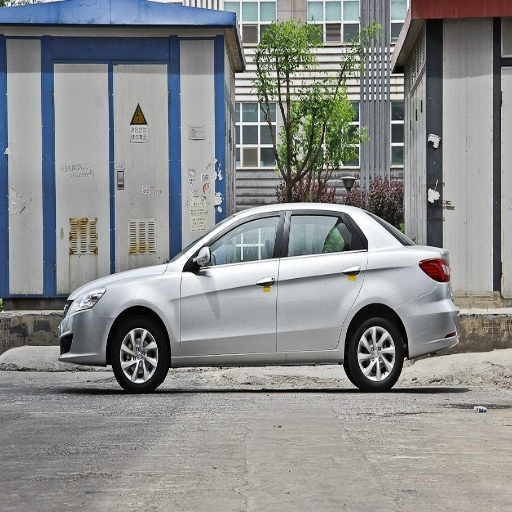back_bumper: (402, 276, 457, 355)
back_left_door: (278, 209, 367, 352)
front_left_door: (180, 210, 285, 353)
